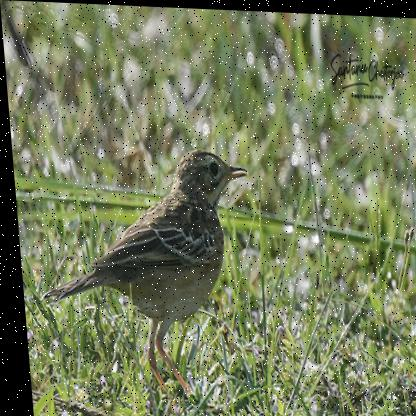Burung: (29, 142, 258, 412)
